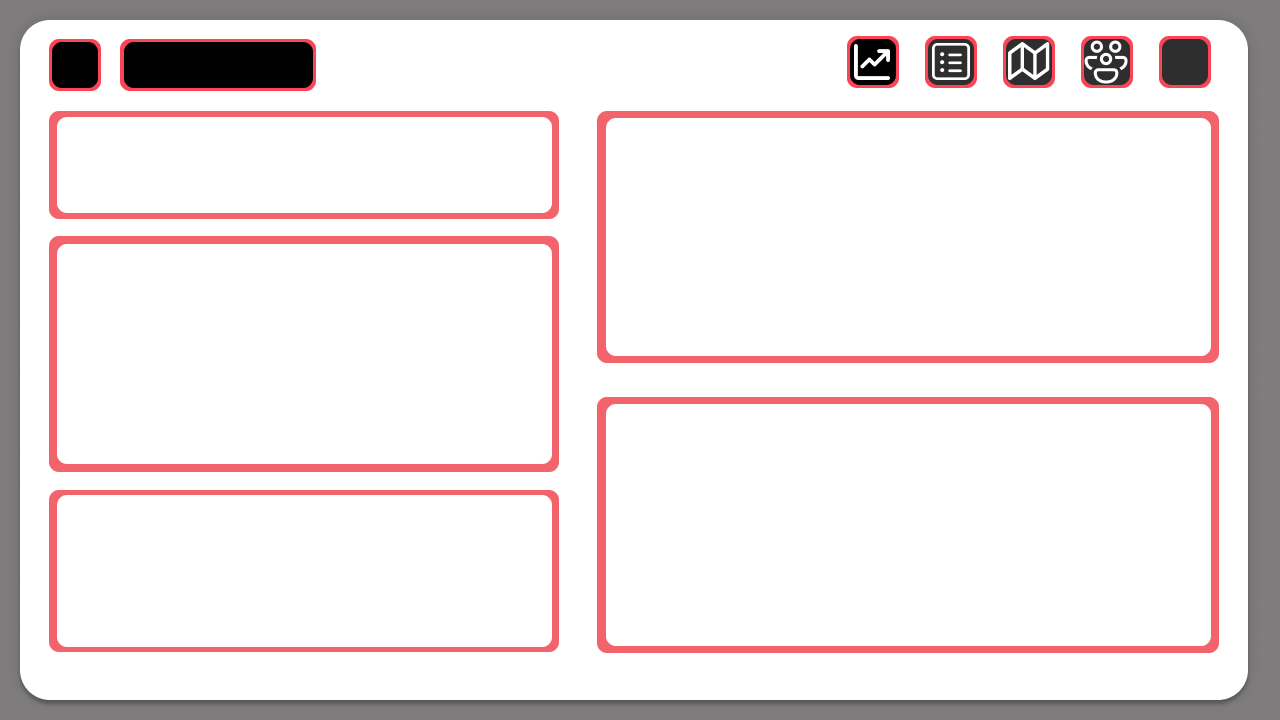

What the dashboard file says about the page in this screenshot:
{"tool":"powerbi","page":{"name":"Matches","canvas":[1280,720],"ordinal":1},"visuals":[{"type":"card","title":"MATCHES","fields":{"Values":["Medidas.Games"]},"box":[55.4,117.1,170.8,96.4],"z":0},{"type":"gauge","fields":{"Y":["Measure.WinRateConCero"]},"box":[141.8,252.4,409,224.3],"z":1000},{"type":"textbox","box":[124.3,39.5,196.4,54.6],"z":2000},{"type":"image","box":[31.4,30.2,87.1,69.7],"z":4000},{"type":"textbox","box":[60.4,251.2,184.8,113.9],"z":5000},{"type":"card","title":"WIN","fields":{"Values":["Medida.WinsConCero"]},"box":[226.2,117.1,161.5,96.4],"z":6000},{"type":"card","title":"LOSE","fields":{"Values":["Medida.LostsConCero"]},"box":[387.7,117.1,165,96.4],"z":7000},{"type":"textbox","box":[56.9,494.8,287,59.3],"z":8000},{"type":"columnChart","title":"Results of matchs by data","fields":{"Category":["Dim_Calendar2.Date"],"Y":["Measure.Matchs"],"Series":["FAC-Matches.Result"]},"box":[605.4,116.2,614.7,248.7],"z":9000},{"type":"lineClusteredColumnComboChart","title":"KDA (Kills/Deaths/Assis) & ACS (Average Combat Score)","fields":{"Category":["Dim_Calendar2.Date"],"Y":["Medidas.KDA"],"Y2":["Medida.ACS"]},"box":[605.4,407.8,614.7,248.7],"z":10000},{"type":"actionButton","box":[44.2,38.3,60.4,54.6],"z":11000},{"type":"actionButton","box":[1163.5,40.3,41.7,41.7],"z":12000},{"type":"actionButton","box":[927.2,37.5,47.3,47.3],"z":13000},{"type":"actionButton","box":[53.4,116.2,500.8,96.4],"z":14000},{"type":"actionButton","title":"Botón - Detalle","box":[1006,36.9,47.6,47.6],"z":15000},{"type":"actionButton","title":"Botón - Detalle","box":[1084.5,38.1,47.6,47.6],"z":16000},{"type":"actionButton","title":"Botón - Detalle","box":[850,38.1,47.6,47.6],"z":17000},{"type":"actionButton","box":[54.2,495.3,499.9,152.3],"z":18000},{"type":"actionButton","box":[0,0,30.9,29.5],"z":19000},{"type":"card","title":"KDA  -  Kills/Deaths/Assis  - ACS","fields":{"Values":["Medida.AVG Per Match"]},"box":[56.4,543.9,495.3,104.9],"z":20000},{"type":"actionButton","box":[122,38.4,191.9,52.1],"z":21000}]}

Visuals, with their boxes in screenshot pixels (x1, y1, x2, y2), scaled from the page's 1280x720 canvas onto the 1280x720 screenshot:
"MATCHES" card: bbox(55, 117, 226, 214)
gauge - Measure.WinRateConCero: bbox(142, 252, 551, 477)
textbox: bbox(124, 40, 321, 94)
image: bbox(31, 30, 118, 100)
textbox: bbox(60, 251, 245, 365)
"WIN" card: bbox(226, 117, 388, 214)
"LOSE" card: bbox(388, 117, 553, 214)
textbox: bbox(57, 495, 344, 554)
"Results of matchs by data" columnChart: bbox(605, 116, 1220, 365)
"KDA (Kills/Deaths/Assis) & ACS (Average Combat Score)" lineClusteredColumnComboChart: bbox(605, 408, 1220, 656)
actionButton: bbox(44, 38, 105, 93)
actionButton: bbox(1164, 40, 1205, 82)
actionButton: bbox(927, 38, 974, 85)
actionButton: bbox(53, 116, 554, 213)
"Botón - Detalle" actionButton: bbox(1006, 37, 1054, 84)
"Botón - Detalle" actionButton: bbox(1084, 38, 1132, 86)
"Botón - Detalle" actionButton: bbox(850, 38, 898, 86)
actionButton: bbox(54, 495, 554, 648)
actionButton: bbox(0, 0, 31, 30)
"KDA  -  Kills/Deaths/Assis  - ACS" card: bbox(56, 544, 552, 649)
actionButton: bbox(122, 38, 314, 90)
